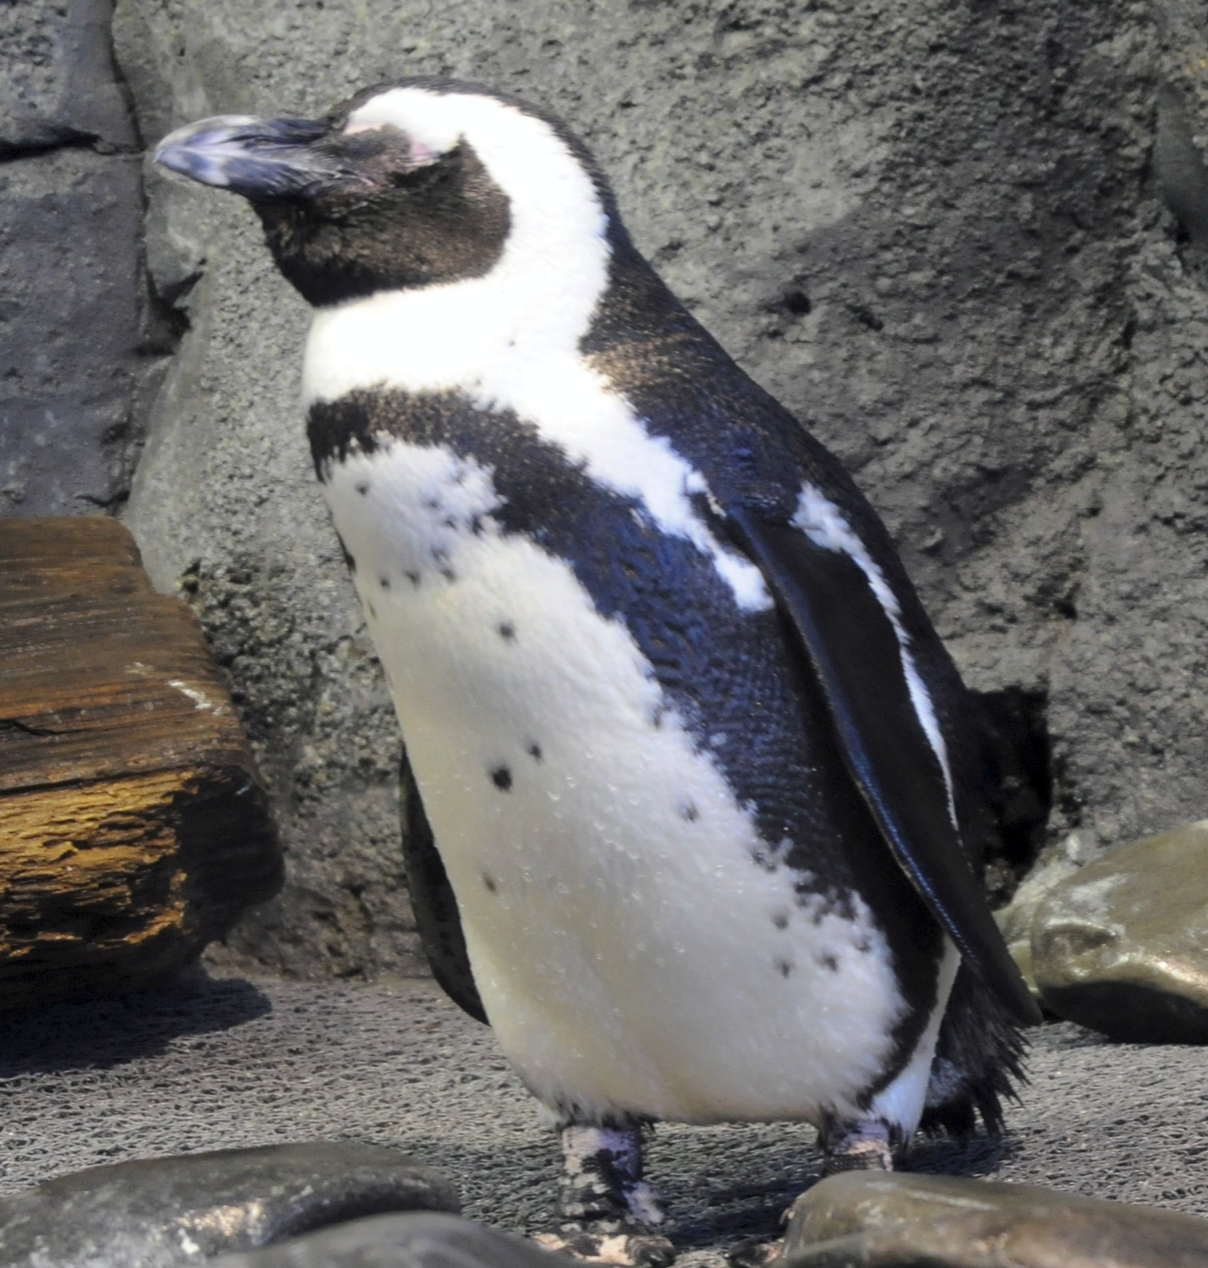penguin: (137, 66, 1073, 1181)
